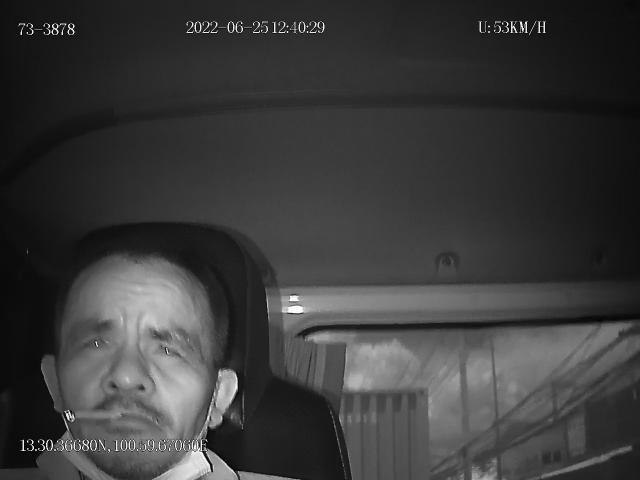SafeDriving: (148, 328, 192, 368), (72, 324, 116, 360)
Smoking: (62, 408, 126, 424)
